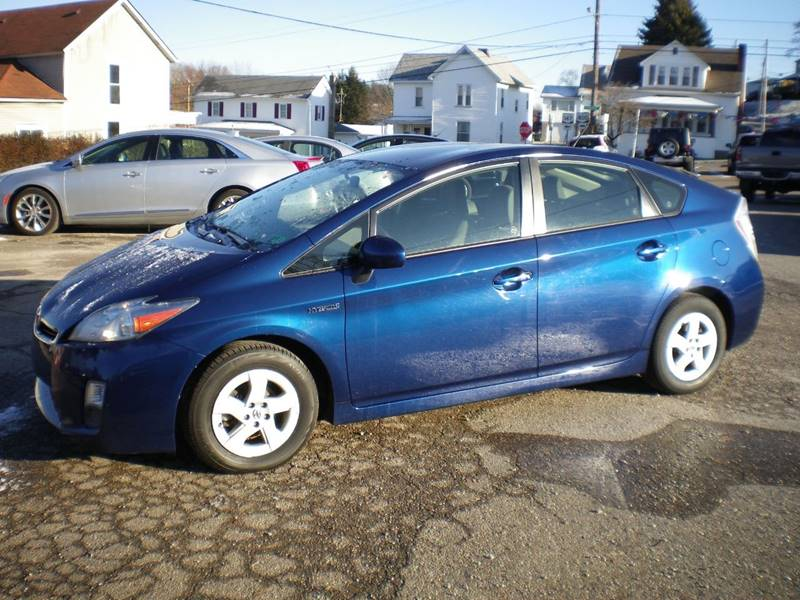Toyota Prius: (33, 140, 765, 473)
